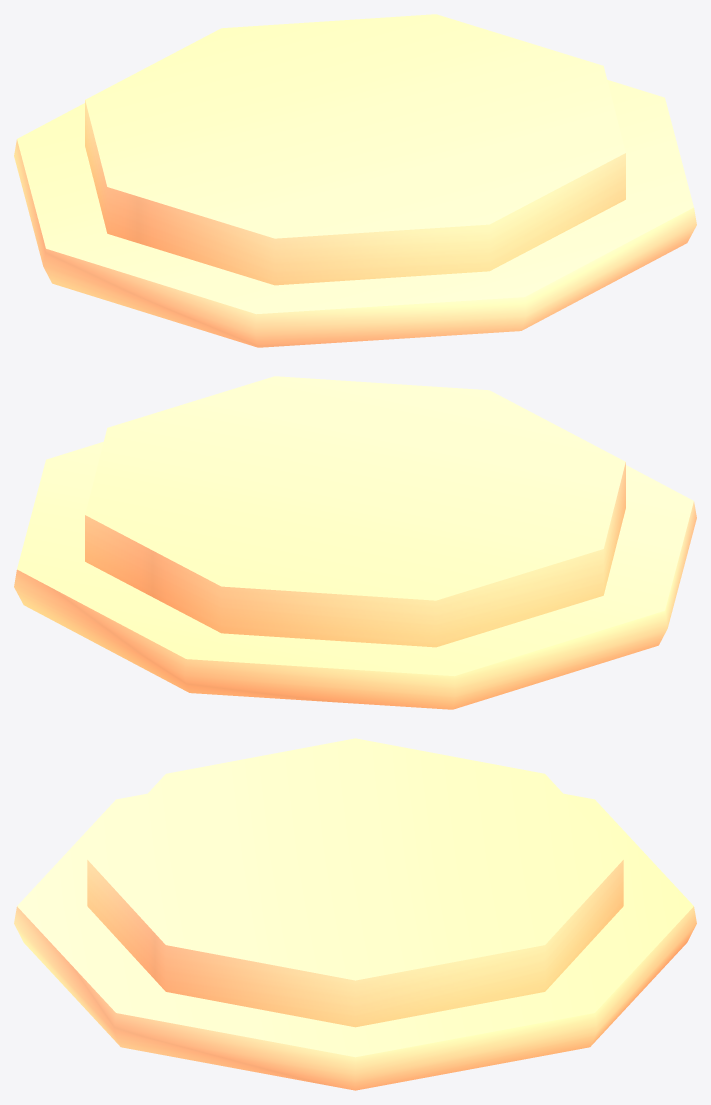
Rendered from wood_guard_082_004.glb.
3 views of the same model, one above another, from view 1: azimuth 30°, elevation 25°; view 2: azimuth 150°, elevation 25°; view 3: azimuth 270°, elevation 25° (orthographic).
Visible parts, largest first — view 1: wood_guard_082.004; view 2: wood_guard_082.004; view 3: wood_guard_082.004.
Part boxes in pixels (x1,y1,x2,y2): wood_guard_082.004: (14,14,696,347); wood_guard_082.004: (14,376,696,709); wood_guard_082.004: (14,738,696,1090).
Bounding box in the file's own units: 5.19 × 0.6605 × 4.92.
Materials: 1 (1 with a texture image).
